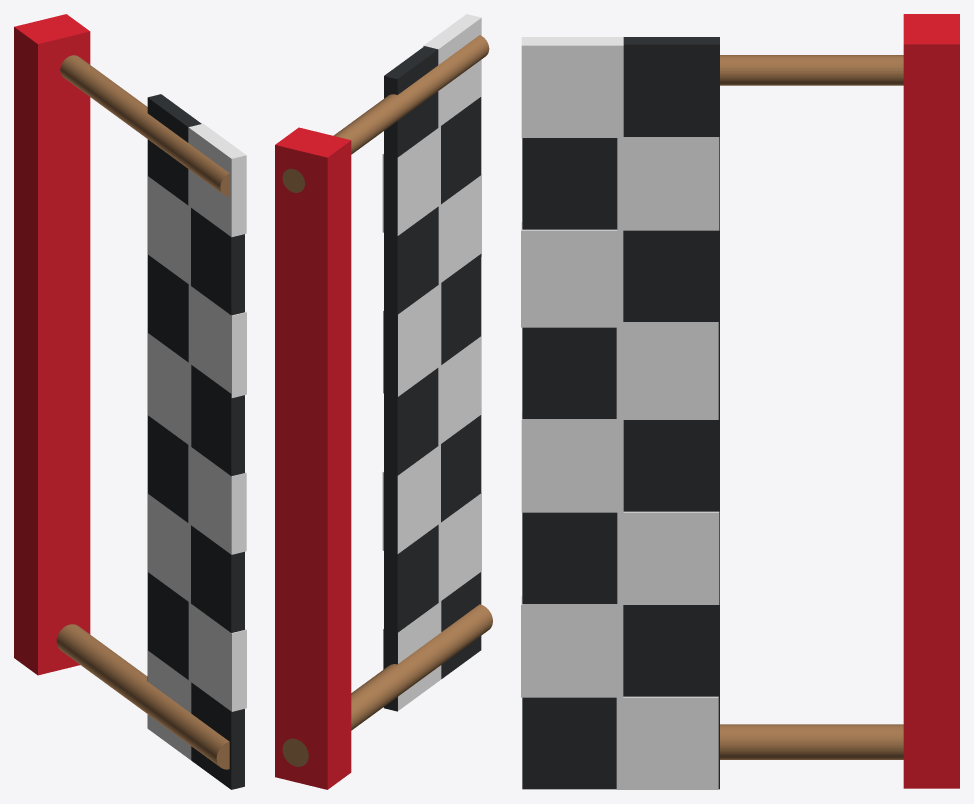
Rendered from tinker 3.obj.
3 views of the same model, side by side, from view 1: azimuth 30°, elevation 25°; view 2: azimuth 150°, elevation 25°; view 3: azimuth 270°, elevation 25° (orthographic). The views are drawn at different scales.
Visible parts, largest first — view 1: group_0_15277357, group_0_16448250, group_0_2829873, group_0_11107152; view 2: group_0_15277357, group_0_2829873, group_0_16448250, group_0_11107152; view 3: group_0_16448250, group_0_2829873, group_0_15277357, group_0_11107152.
Part boxes in pixels (left/top/right/bottom): group_0_15277357: left=14, top=14, right=90, bottom=675; group_0_16448250: left=148, top=123, right=246, bottom=760; group_0_2829873: left=147, top=94, right=244, bottom=789; group_0_11107152: left=56, top=55, right=229, bottom=769; group_0_15277357: left=275, top=127, right=351, bottom=789; group_0_2829873: left=384, top=46, right=481, bottom=711; group_0_16448250: left=382, top=14, right=481, bottom=710; group_0_11107152: left=282, top=35, right=492, bottom=766; group_0_16448250: left=521, top=37, right=719, bottom=789; group_0_2829873: left=522, top=37, right=719, bottom=789; group_0_15277357: left=903, top=14, right=959, bottom=788; group_0_11107152: left=720, top=55, right=903, bottom=759.
Bounding box in the file's own units: 14 × 162 × 86.
